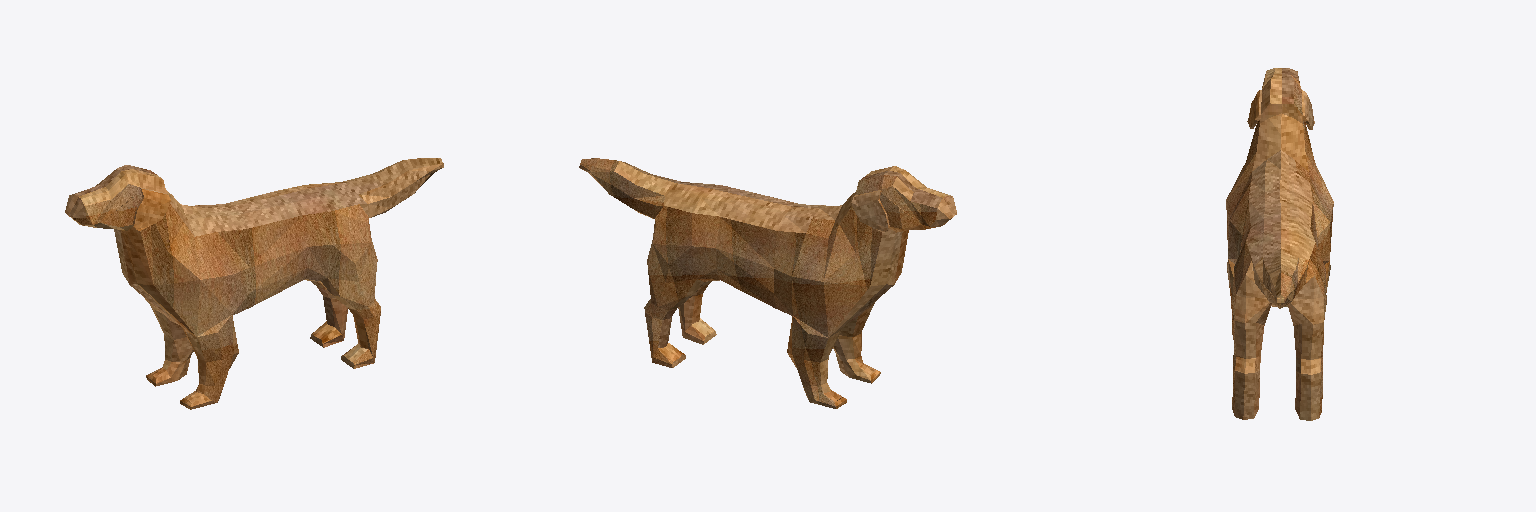
The picture shows the model from 3 angles: view 1: azimuth 30°, elevation 25°; view 2: azimuth 150°, elevation 25°; view 3: azimuth 270°, elevation 25°; orthographic projection.
Parts seen in each view (by area): view 1: Плоскость; view 2: Плоскость; view 3: Плоскость.
Boxes of the visible parts, x1=… form: Плоскость: x1=65, y1=158, x2=443, y2=409; Плоскость: x1=579, y1=158, x2=956, y2=408; Плоскость: x1=1226, y1=68, x2=1333, y2=420.
Size of the model in its own units: 12.99 by 7.77 by 3.24.
1 materials, 1 textured.